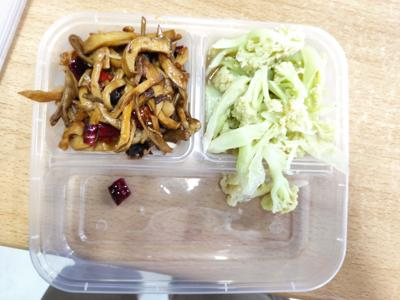cch: (207, 38, 328, 165)
cmg: (54, 34, 182, 153)
